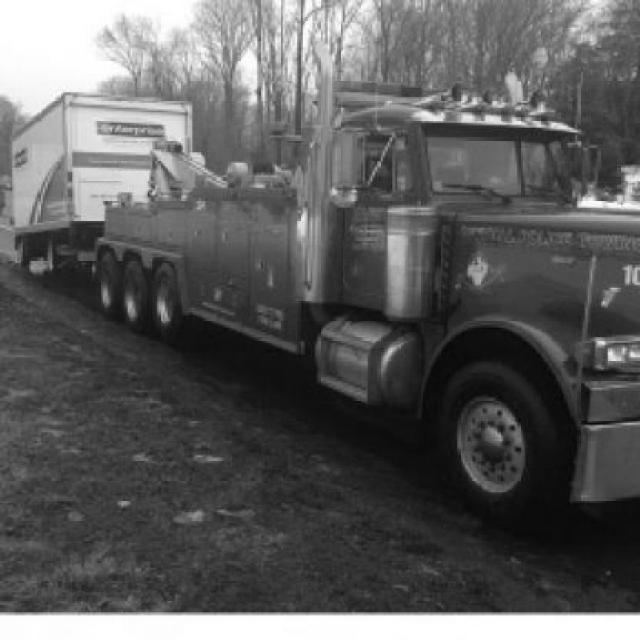Box Truck: (12, 93, 193, 274)
Tow Truck: (98, 82, 640, 519)
